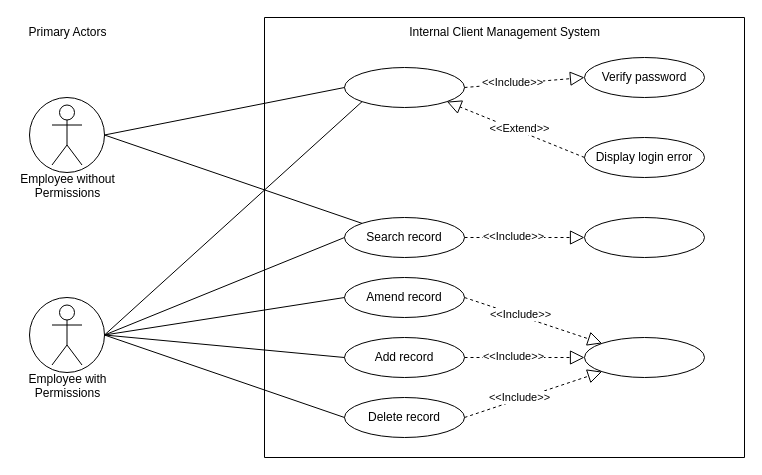
This 762x475 diagram has some shape labels left out. The shapes that lost their labels are listed below. From the top down, each one's centre as x and y in pixels, then its label:
point (404, 87): Log in
point (644, 237): Verify search Attribute
point (644, 357): Verify record details
